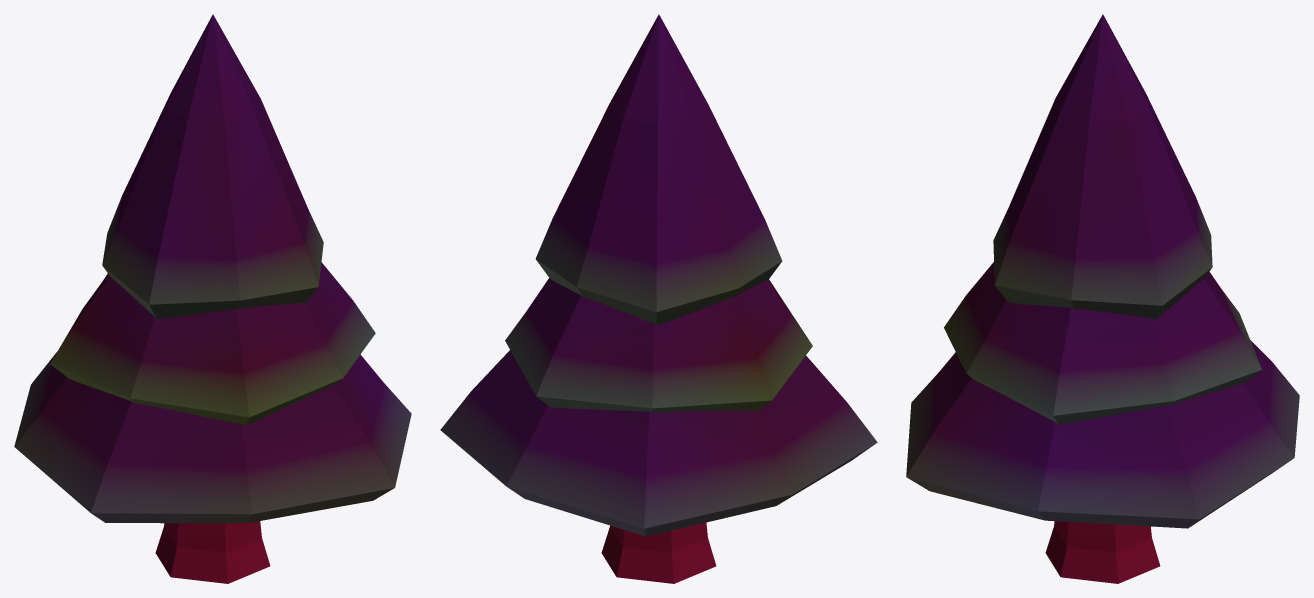
Rendered from Tree_Pine_Medium_01.glb.
The picture shows the model from 3 angles, left to right: view 1: azimuth 30°, elevation 25°; view 2: azimuth 150°, elevation 25°; view 3: azimuth 270°, elevation 25°; orthographic projection.
Visible parts, largest first — view 1: Tree_Pine_Medium_01; view 2: Tree_Pine_Medium_01; view 3: Tree_Pine_Medium_01.
Part boxes in pixels (<box>): Tree_Pine_Medium_01: <box>14,14,411,583</box>; Tree_Pine_Medium_01: <box>440,14,877,583</box>; Tree_Pine_Medium_01: <box>906,14,1299,583</box>.
Size of the model in its own units: 2.45 by 3.75 by 2.45.
